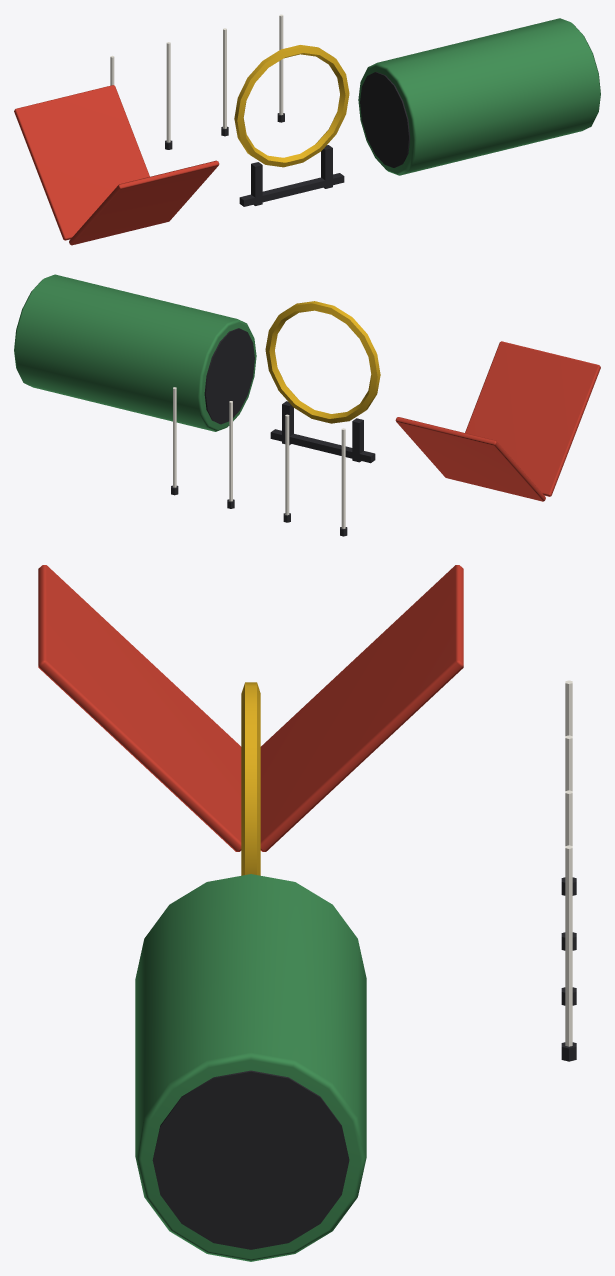
Rendered from dog_agility.glb.
3 views of the same model, one above another, from view 1: azimuth 30°, elevation 25°; view 2: azimuth 150°, elevation 25°; view 3: azimuth 270°, elevation 25° (orthographic). The views are drawn at different scales.
Visible parts, largest first — view 1: dog_agility; view 2: dog_agility; view 3: dog_agility.
Part boxes in pixels (<box>): dog_agility: <box>14,14,600,245</box>; dog_agility: <box>14,274,600,536</box>; dog_agility: <box>38,565,576,1261</box>.
Bounding box in the file's own units: 4.06 × 1.13 × 1.86.
